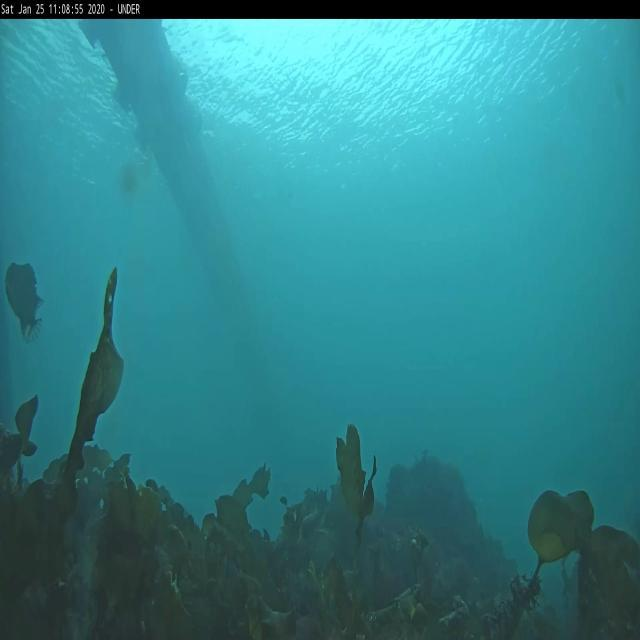fish: (6, 261, 44, 341)
